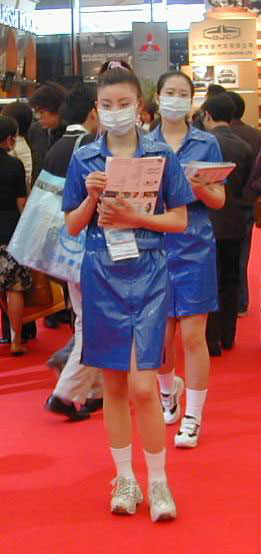face_mask: (97, 82, 135, 134), (160, 73, 188, 119)
